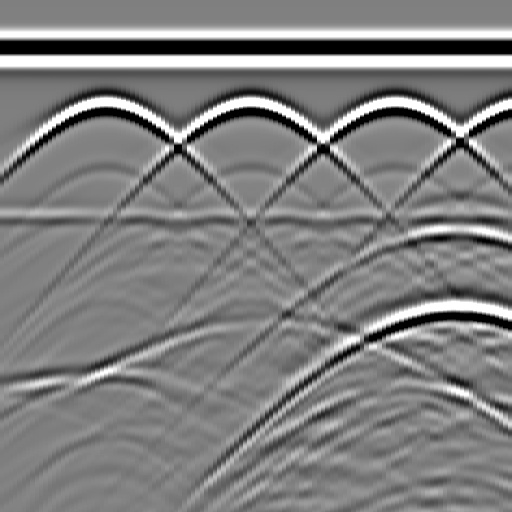grout_surface: (1, 204, 512, 234)
rebar: (84, 86, 124, 126), (228, 86, 268, 126), (372, 86, 412, 126), (502, 86, 512, 126)
rock_surface: (1, 320, 511, 398)
water_void: (422, 207, 482, 247)
